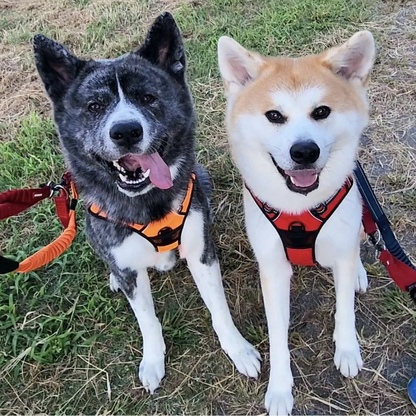akita: (27, 7, 213, 397), (213, 22, 381, 416)
